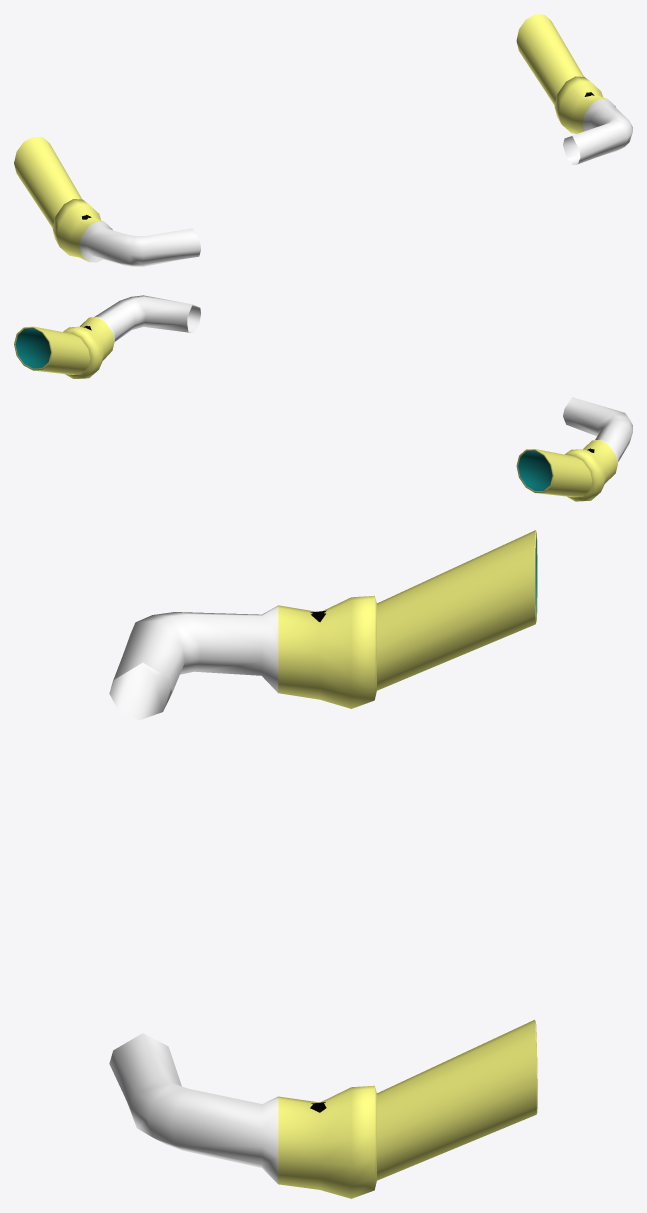
The model's file is Car_Mini_CountrymanJCW_2017_Exhausts_SetFB_AltA.fbx.
The picture shows the model from 3 angles, top to bottom: view 1: azimuth 30°, elevation 25°; view 2: azimuth 150°, elevation 25°; view 3: azimuth 270°, elevation 25°; orthographic projection. The views are drawn at different scales.
Parts seen in each view (by area): view 1: Exhausts 6; view 2: Exhausts 6; view 3: Exhausts 6.
Part boxes in pixels (box(x1,y1,x2,y2)): Exhausts 6: box(14, 14, 632, 266); Exhausts 6: box(14, 295, 632, 501); Exhausts 6: box(109, 530, 537, 1198).
Bounding box in the file's own units: 1.16 × 0.1742 × 0.3928.
